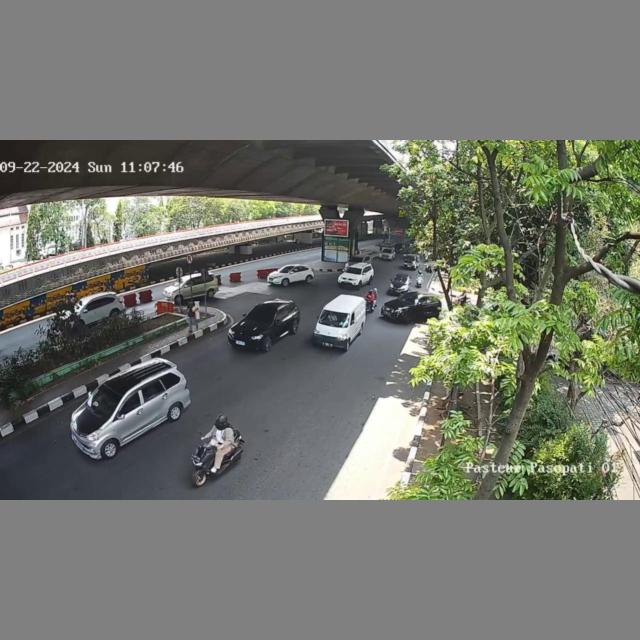windshield: (87, 384, 125, 414), (319, 307, 352, 327), (247, 306, 275, 324), (345, 267, 361, 274)
